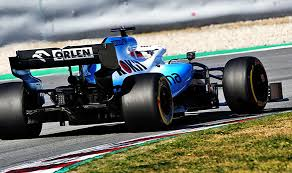FormulaOneCar: (1, 23, 269, 139)
